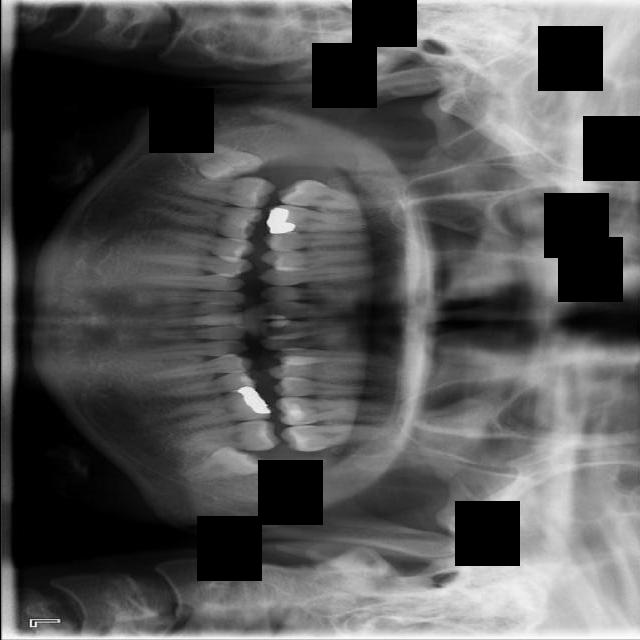52: (218, 387, 272, 420), (271, 395, 323, 428), (256, 299, 314, 321), (266, 205, 309, 234), (258, 319, 316, 340)
73: (35, 607, 43, 615)
BioHorizons Implant: (279, 424, 392, 452)
Biomet 3i Implant: (179, 443, 266, 482)
Blue Sky Bio Implant: (177, 420, 280, 452)
Caries: (275, 177, 391, 214)
Implant: (175, 174, 277, 211)
Keystone Dental Implant: (182, 137, 265, 192)
